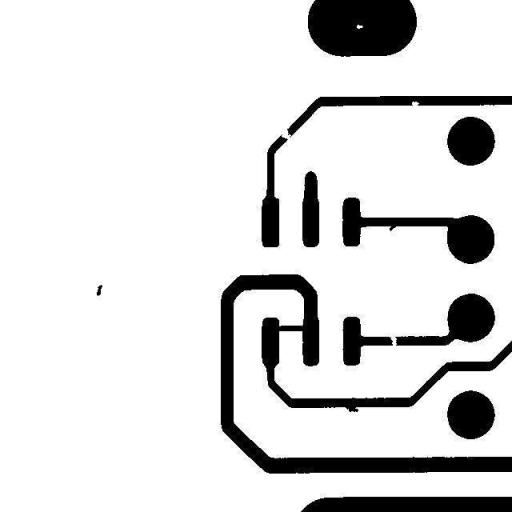copper: (86, 276, 108, 302)
mousebite: (404, 94, 426, 112)
open: (274, 122, 298, 149), (380, 326, 403, 353)
pin-hole: (350, 18, 370, 35)
short: (272, 319, 310, 336)
spur: (338, 398, 365, 418), (382, 215, 402, 238)
